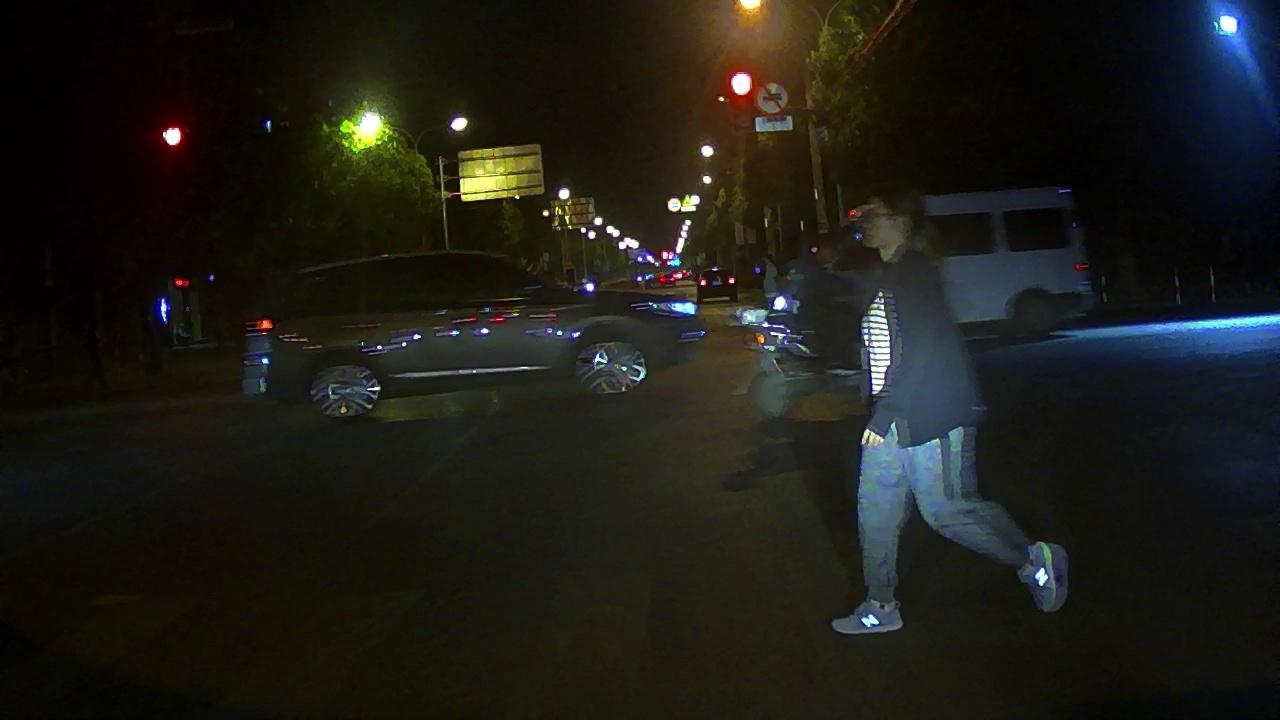traffic_light: (150, 118, 191, 154), (725, 66, 761, 102)
